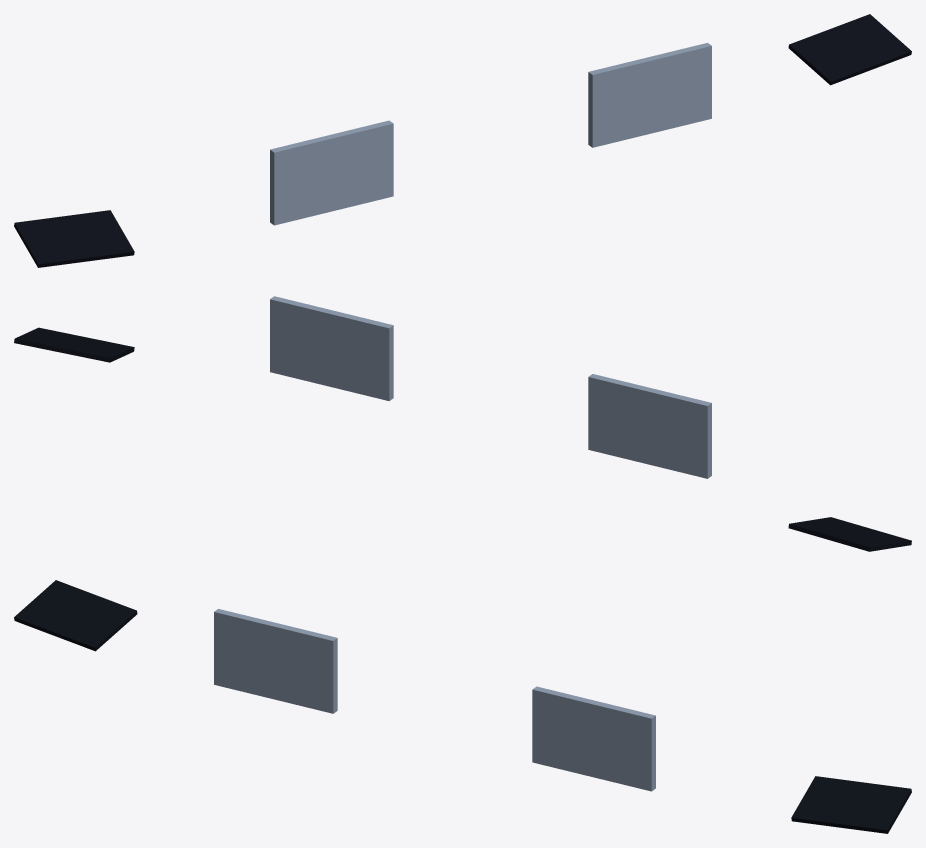
Rendered from exhaust_thermal_aero.glb.
3 renders of one model, top to bottom at view 1: azimuth 30°, elevation 25°; view 2: azimuth 150°, elevation 25°; view 3: azimuth 330°, elevation 25°, orthographic.
Parts seen in each view (by area): view 1: Exhaust_Thermal_Shields_Rear_Aero_Assembly; view 2: Exhaust_Thermal_Shields_Rear_Aero_Assembly; view 3: Exhaust_Thermal_Shields_Rear_Aero_Assembly.
Part boxes in pixels (x1,y1,x2,y2): Exhaust_Thermal_Shields_Rear_Aero_Assembly: [14, 14, 911, 267]; Exhaust_Thermal_Shields_Rear_Aero_Assembly: [14, 296, 911, 551]; Exhaust_Thermal_Shields_Rear_Aero_Assembly: [14, 580, 911, 833].
Size of the model in its own units: 1.76 by 0.1519 by 0.179.
